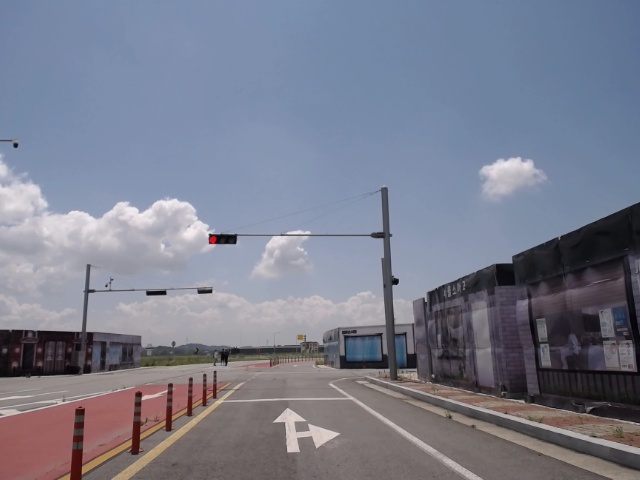red_3: (210, 234, 237, 244)
